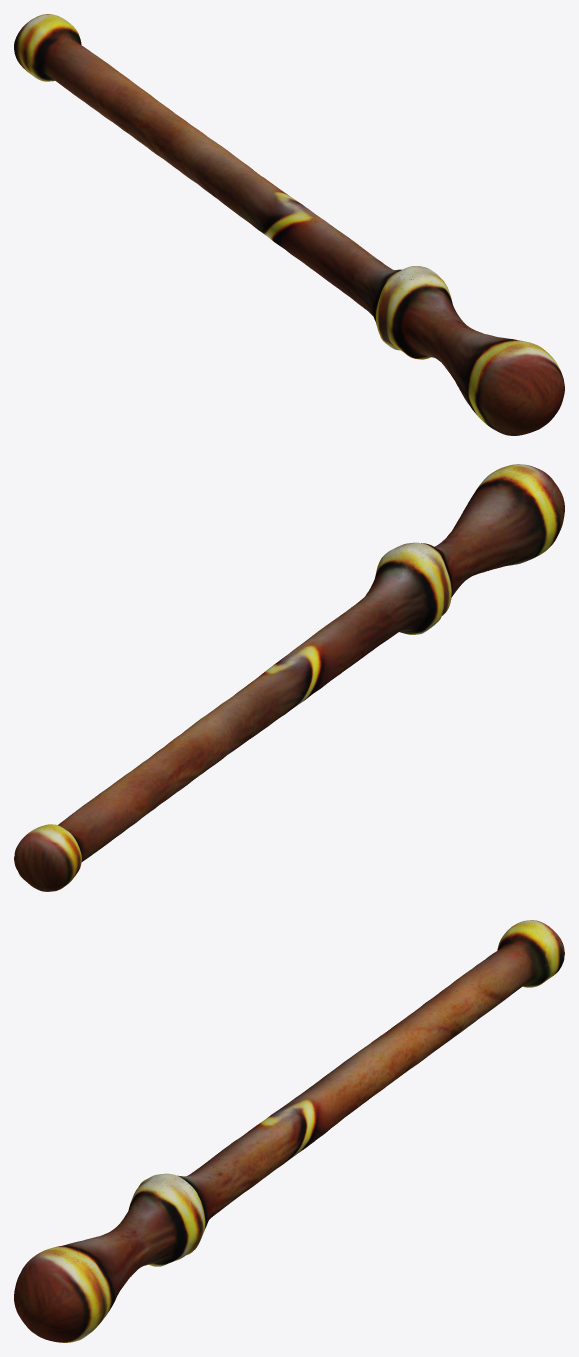
Rendered from 39edd6268d58_Simple_wooden_magic.obj.
3 views of the same model, one above another, from view 1: azimuth 30°, elevation 25°; view 2: azimuth 150°, elevation 25°; view 3: azimuth 330°, elevation 25° (orthographic).
Visible parts, largest first — view 1: high_poly; view 2: high_poly; view 3: high_poly.
Part boxes in pixels (box(x1,y1,x2,y2)): high_poly: box(14, 14, 564, 435); high_poly: box(14, 464, 564, 891); high_poly: box(14, 920, 564, 1342).
Size of the model in its own units: 0.0935 by 0.0955 by 1.
1 material, 1 textured.
